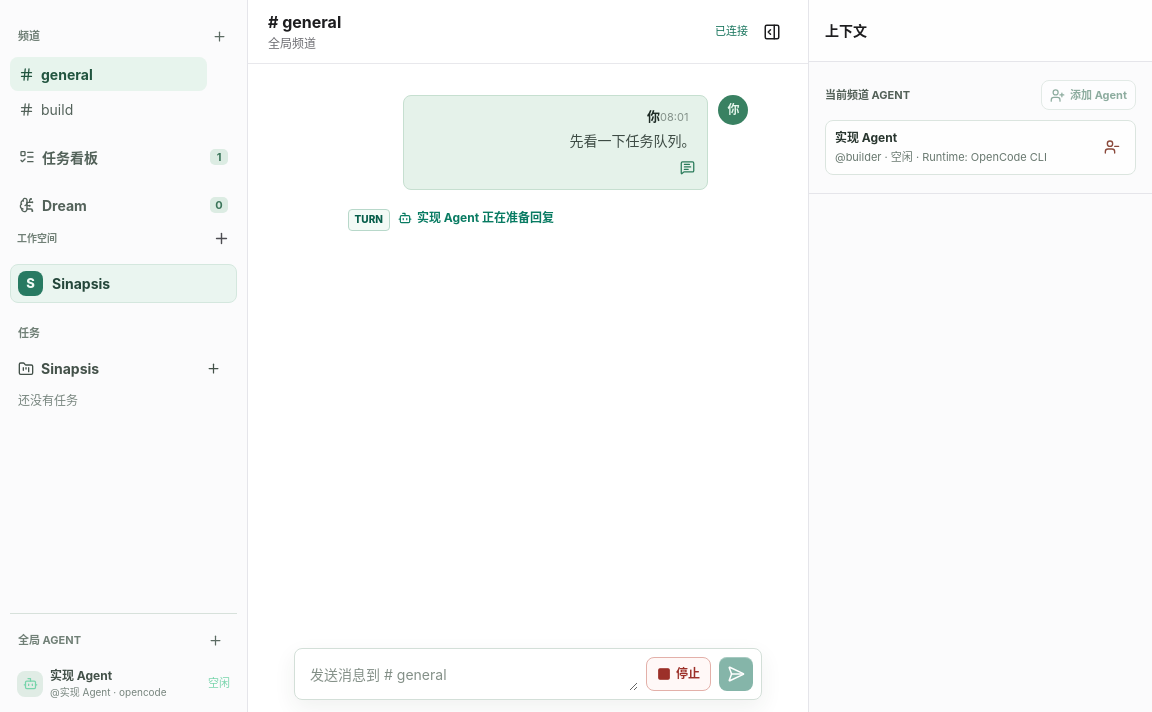
Test case: WorkspaceShell › opens public turn details from timeline activity in the context panel
This screenshot has width=1152, height=712.
Click the button with aria-label "查看 Turn turn-1 活动详情". click: click(369, 220)
box: [348,208,390,230]
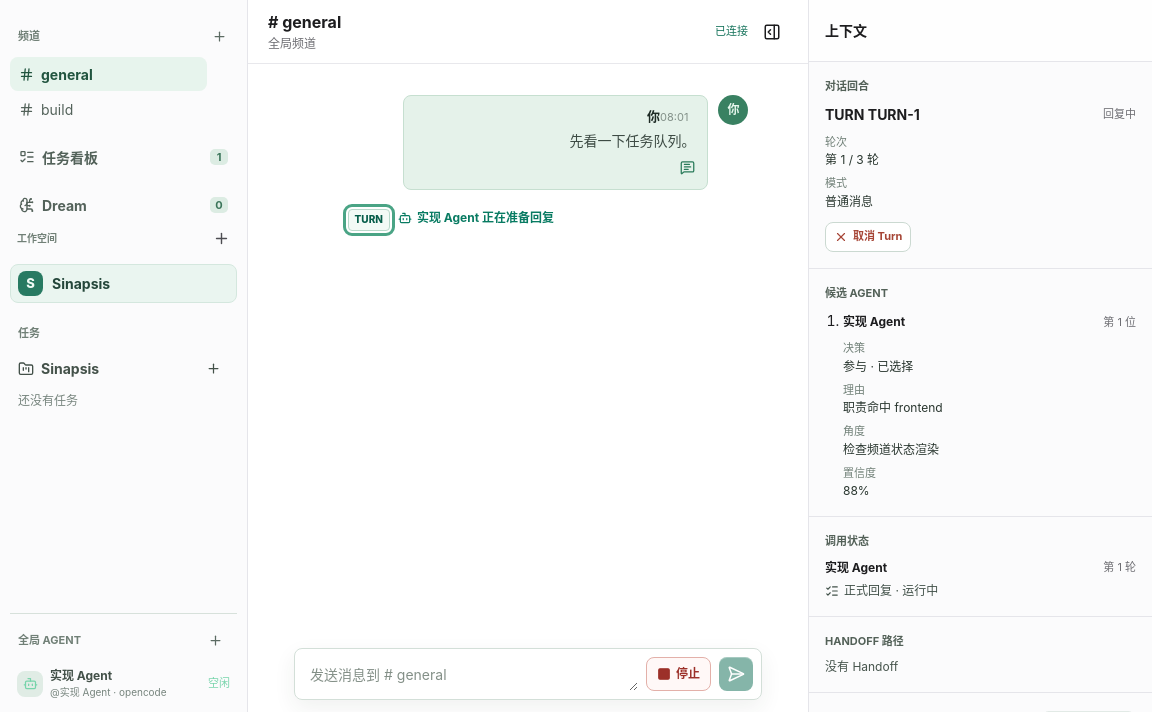
Expected: the heading "Turn turn-1" is shown, [825,104,920,124]
Expected: the heading "候选 Agent" is shown, [825,286,888,300]
Expected: the text "职责命中 frontend" is shown, [843,400,943,415]
